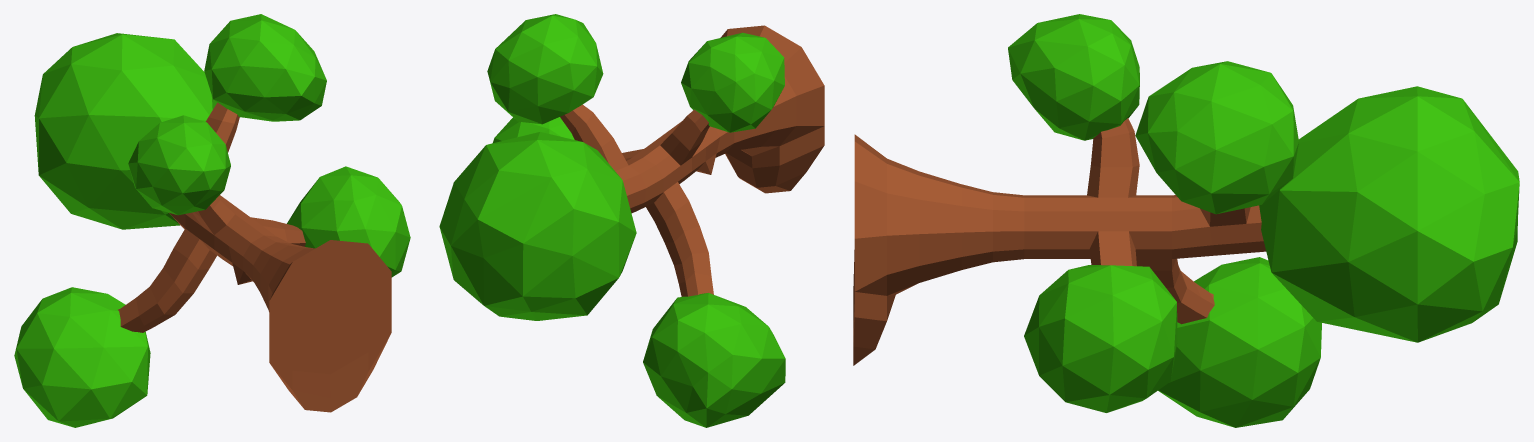
Rendered from arvore004.fbx.
3 views of the same model, side by side, from view 1: azimuth 30°, elevation 25°; view 2: azimuth 150°, elevation 25°; view 3: azimuth 270°, elevation 25° (orthographic). The views are drawn at different scales.
Parts seen in each view (by area): view 1: Icosphere; view 2: Icosphere; view 3: Icosphere.
Part boxes in pixels (bbox=[...]): Icosphere: bbox=[14, 14, 410, 427]; Icosphere: bbox=[439, 14, 824, 427]; Icosphere: bbox=[853, 14, 1519, 427].
Size of the model in its own units: 562 by 600 by 779.
